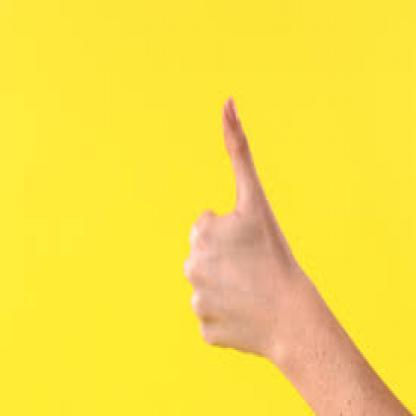thumb_up: (180, 89, 284, 356)
